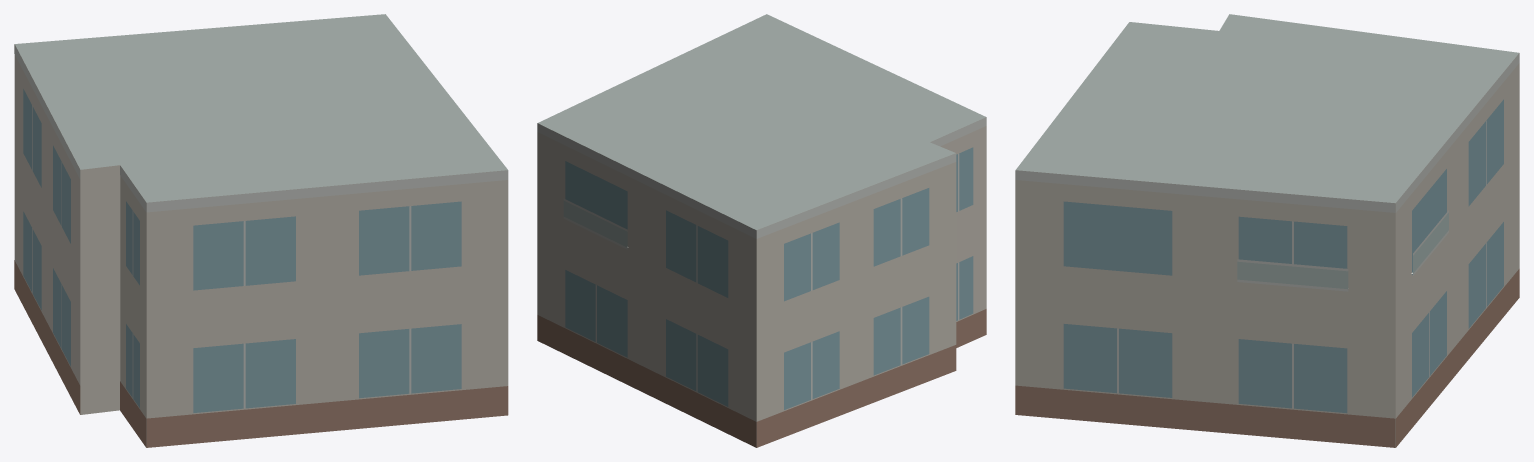
Rendered from survey-upis-32474059.glb.
3 renders of one model, left to right at view 1: azimuth 30°, elevation 25°; view 2: azimuth 150°, elevation 25°; view 3: azimuth 270°, elevation 25°, orthographic. The views are drawn at different scales.
Visible parts, largest first — view 1: survey-upis-32474059.tmp; view 2: survey-upis-32474059.tmp; view 3: survey-upis-32474059.tmp.
Part boxes in pixels (x1=…): survey-upis-32474059.tmp: x1=14, y1=14, x2=508, y2=447; survey-upis-32474059.tmp: x1=537, y1=14, x2=986, y2=447; survey-upis-32474059.tmp: x1=1015, y1=14, x2=1519, y2=447.
Size of the model in its own units: 10.13 by 6.1 by 11.4.
